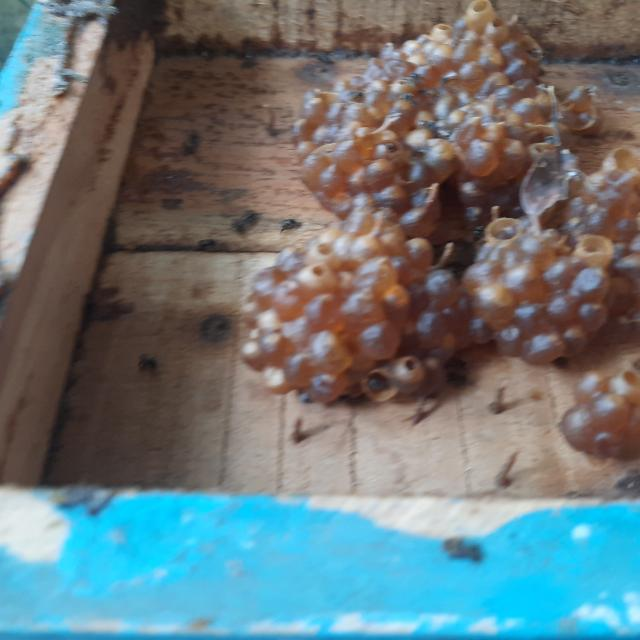honeybee: (280, 216, 301, 235)
